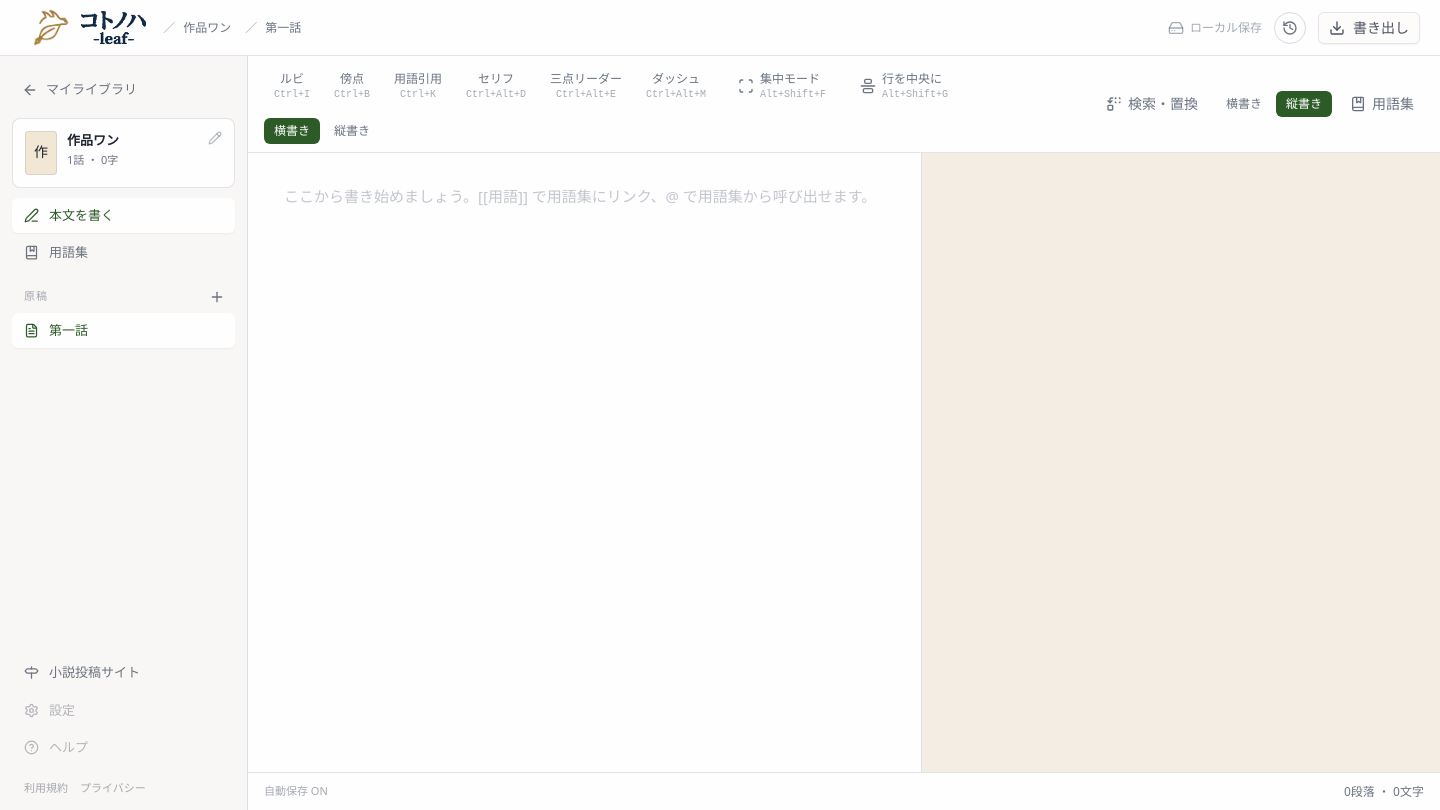
Test: App（エディタ結合：本文/プレビュー・自動保存・履歴） › プレビューの @参照は用語集に在れば解決リンク、無ければ未解決点線で描く
Step 1. Replace the text in the text box named "本文" with "[ [アリス]]と[ [謎の人物]]" → (585, 462), box [248,153,921,772]
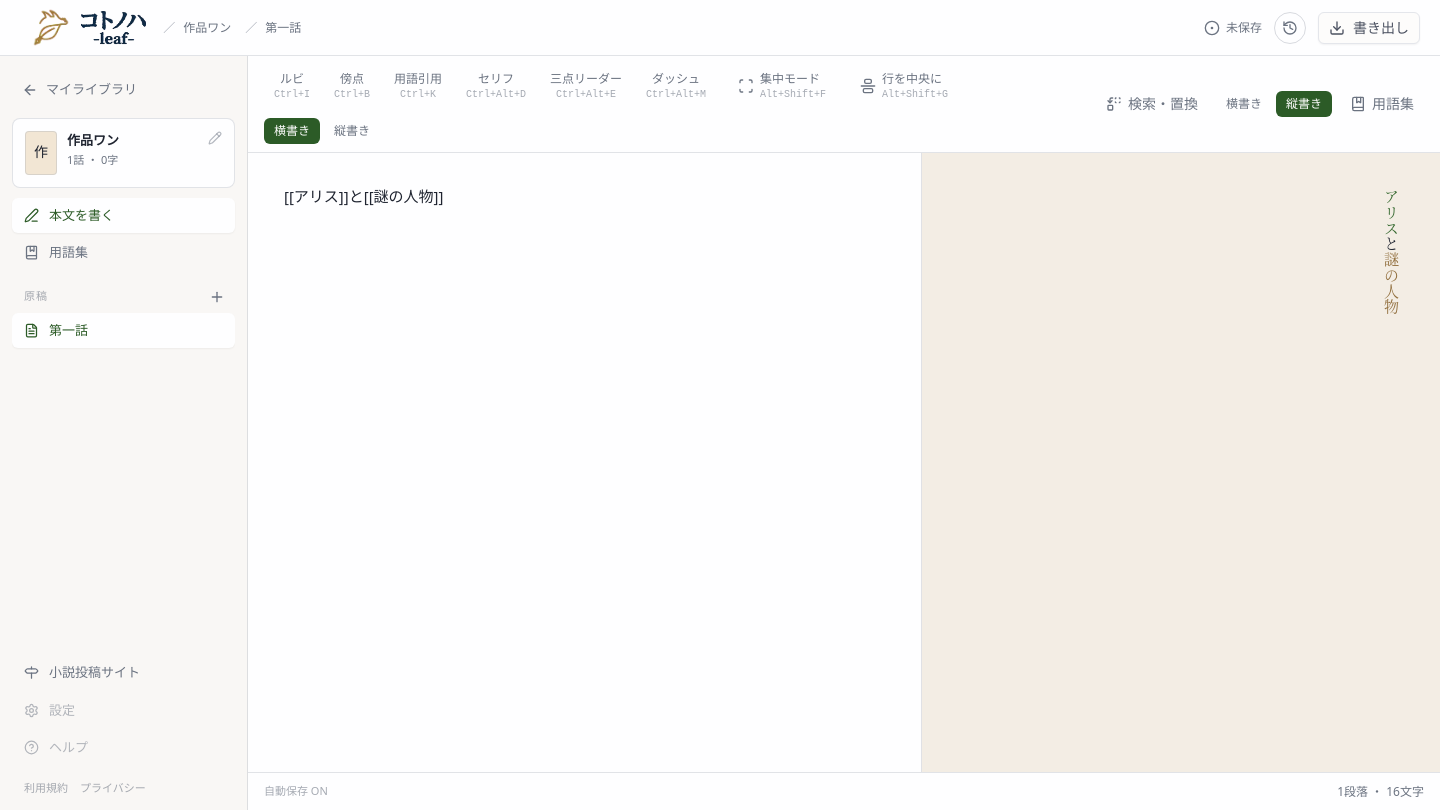
Expected: the number of links with class "ref" is 2, [1381,189,1402,236]; [1381,252,1402,315]
Expected: the link with class "ref" reads "アリス", [1381,189,1402,236]
